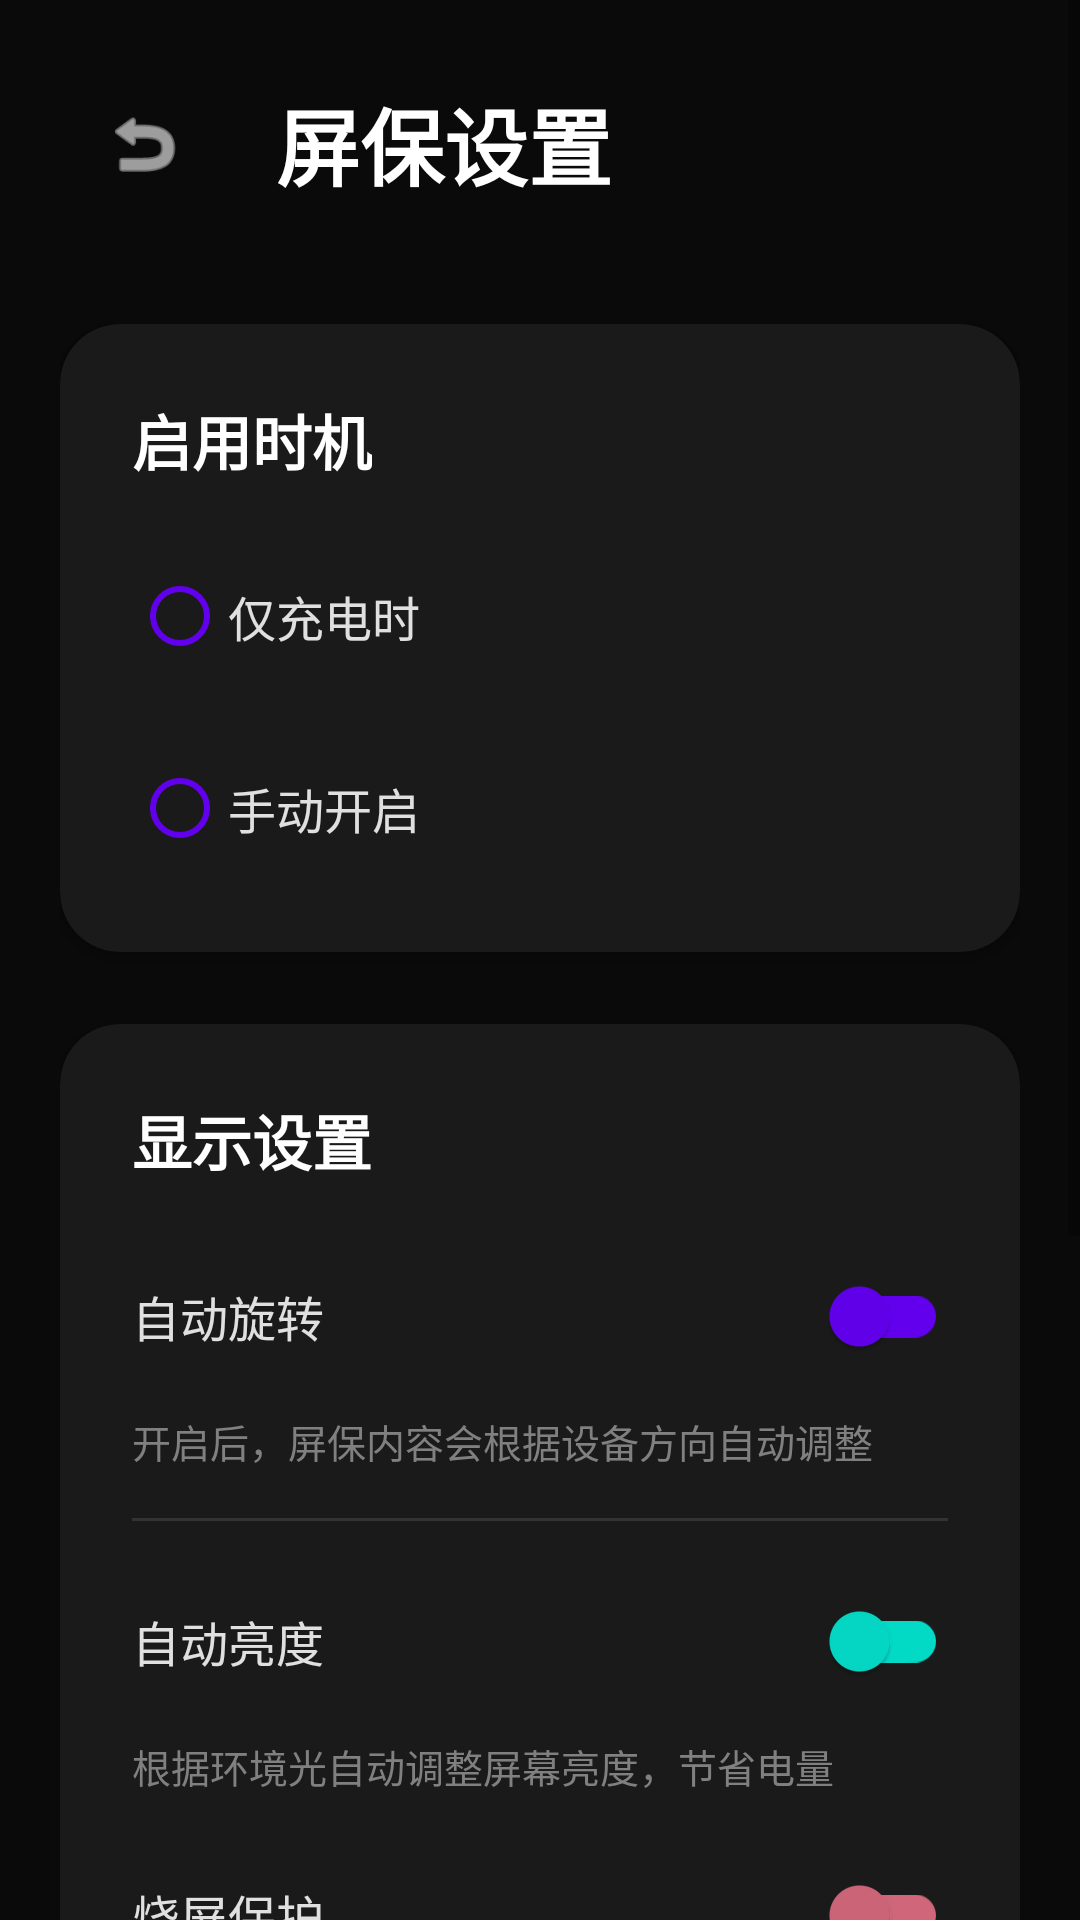

Named icons in this screenshot (1080w x 1920h) and their centers, (x=x, y=y):
revert: (x=145, y=144)
